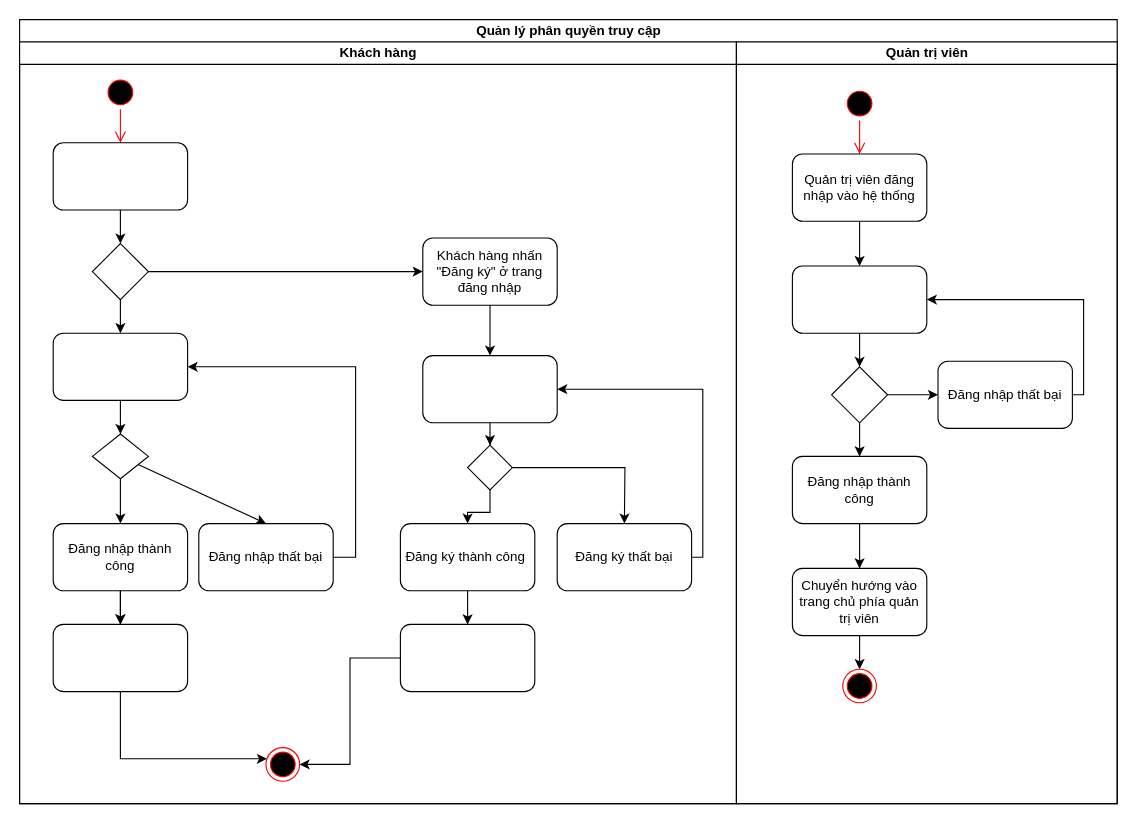
This 1137x823 diagram has some shape labels left out. The box of each missing label's shape, as (x1, y1, x2, y2) in pixels:
Chuyển hướng về trang chủ ở phía khách hàng: (52, 623, 188, 692)
Chuyển hướng về trang đăng nhập: (399, 623, 535, 692)
Khách hàng chọn "Đăng nhập": (52, 142, 188, 210)
Khách hàng nhập tên đăng nhập và mật khẩu: (52, 332, 188, 400)
Khách hàng điền các thông tin đăng ký tài khoản: (422, 354, 557, 423)
Quản trị viên nhập thông tin: (791, 265, 927, 333)
